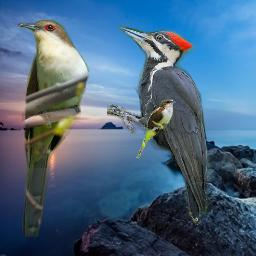Cuckoo: (17, 19, 91, 237), (136, 99, 176, 159)
Woodpecker: (107, 25, 217, 225)
